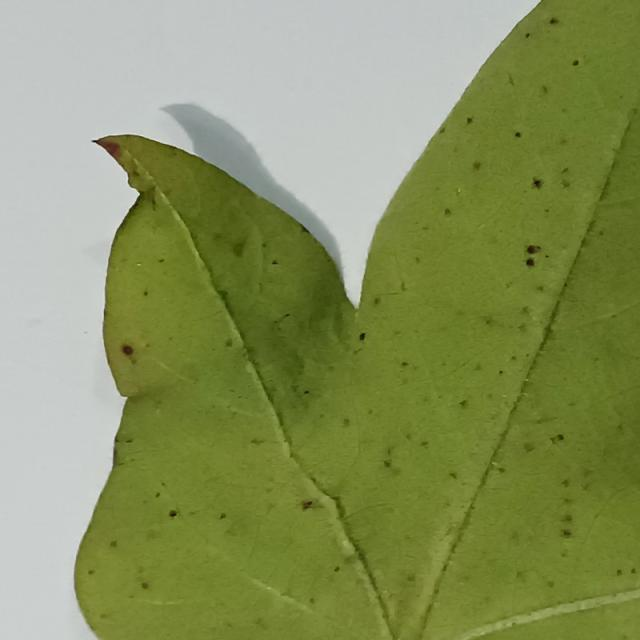Bacterial_Blight: (542, 457, 617, 550), (505, 156, 582, 237), (513, 234, 548, 275), (119, 338, 139, 368), (94, 139, 121, 160), (380, 451, 401, 477), (215, 286, 232, 310), (560, 512, 575, 536), (579, 466, 595, 485), (299, 498, 319, 511), (274, 312, 291, 327), (232, 240, 246, 258), (145, 528, 161, 541), (531, 177, 544, 189), (550, 434, 564, 444), (523, 442, 535, 453), (481, 315, 494, 325), (516, 572, 527, 583), (250, 437, 265, 445), (522, 305, 534, 315), (526, 245, 539, 254), (113, 443, 118, 466), (150, 198, 158, 212), (472, 160, 482, 171), (560, 179, 570, 189), (507, 74, 515, 86), (300, 225, 310, 234), (406, 573, 416, 582), (225, 337, 233, 348), (444, 207, 453, 216), (561, 479, 570, 488), (560, 549, 569, 558), (616, 423, 625, 432), (168, 510, 178, 518), (549, 17, 559, 25), (342, 417, 350, 427), (132, 167, 140, 177), (563, 514, 573, 522), (400, 281, 407, 292), (459, 399, 468, 407), (420, 440, 429, 448), (449, 471, 457, 480), (473, 363, 482, 371), (547, 579, 555, 588), (109, 540, 117, 548), (497, 466, 505, 474), (255, 617, 263, 625), (359, 332, 366, 341), (466, 116, 473, 125), (542, 85, 548, 95), (374, 297, 381, 305), (219, 512, 227, 519), (561, 167, 569, 174), (141, 582, 148, 589), (439, 127, 446, 134), (261, 241, 268, 248), (100, 614, 107, 621), (572, 59, 579, 66), (514, 131, 521, 138), (401, 361, 409, 367), (271, 259, 279, 265), (124, 438, 133, 443), (414, 256, 420, 263), (309, 598, 315, 605), (334, 566, 340, 573), (510, 355, 517, 361), (422, 225, 429, 231), (157, 258, 165, 263), (155, 492, 161, 498), (88, 570, 95, 575), (161, 481, 166, 488), (143, 290, 148, 296), (525, 33, 530, 39)
Cotton: (74, 0, 639, 639)
